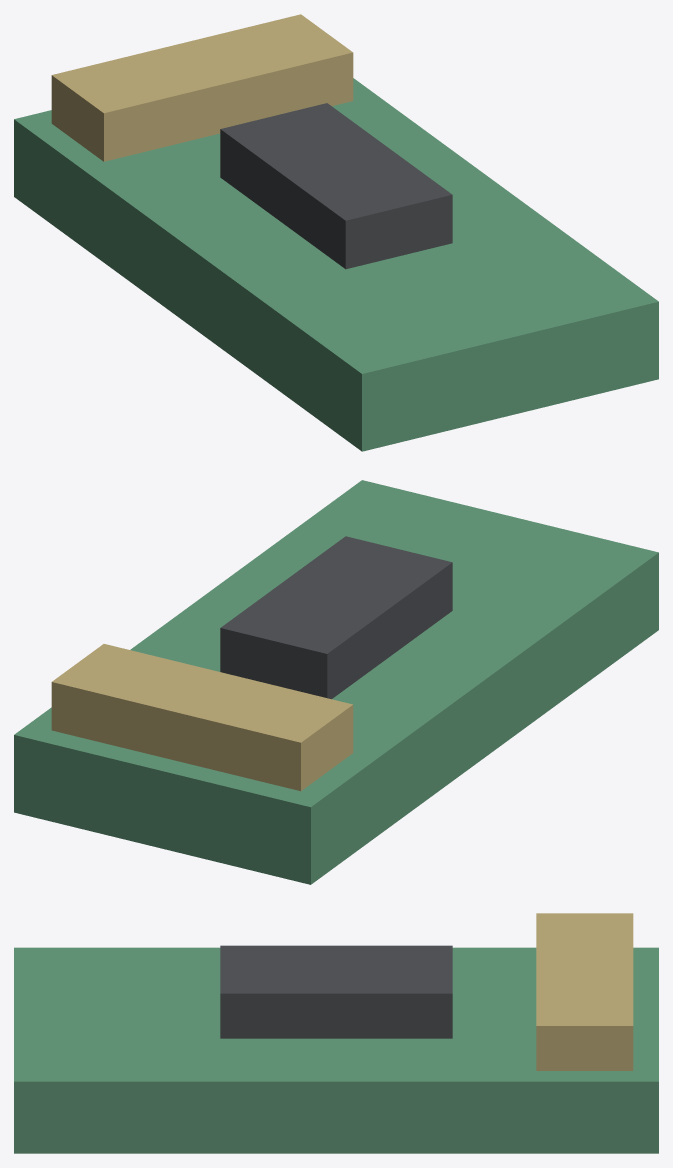
The model's file is Dock_Pad_PCB_v3_4c.glb.
3 renders of one model, top to bottom at view 1: azimuth 30°, elevation 25°; view 2: azimuth 150°, elevation 25°; view 3: azimuth 270°, elevation 25°, orthographic. The views are drawn at different scales.
Visible parts, largest first — view 1: Dock_Pad_PCB_v3_4c; view 2: Dock_Pad_PCB_v3_4c; view 3: Dock_Pad_PCB_v3_4c.
Part boxes in pixels (x1,y1,x2,y2): Dock_Pad_PCB_v3_4c: (14,14,658,451); Dock_Pad_PCB_v3_4c: (14,480,658,884); Dock_Pad_PCB_v3_4c: (14,913,658,1153).
Size of the model in its own units: 6.4 by 2.6 by 13.
